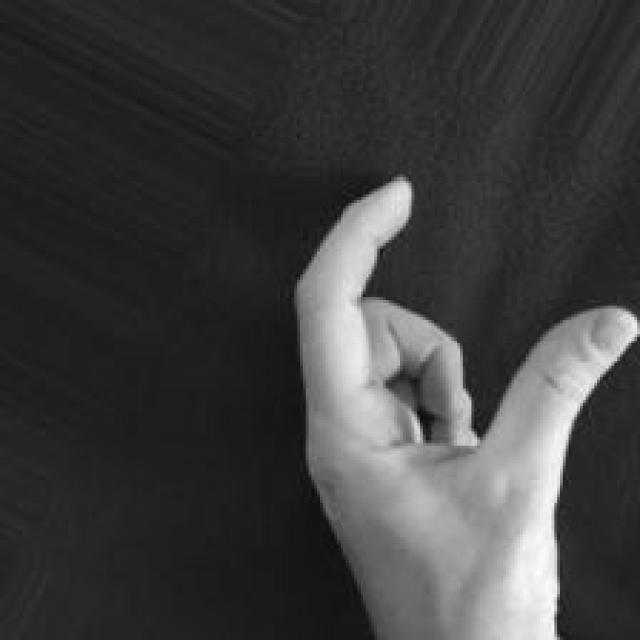U: (285, 168, 640, 640)
